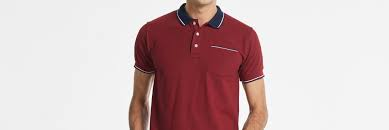S_polo shirt: (122, 10, 274, 128)
